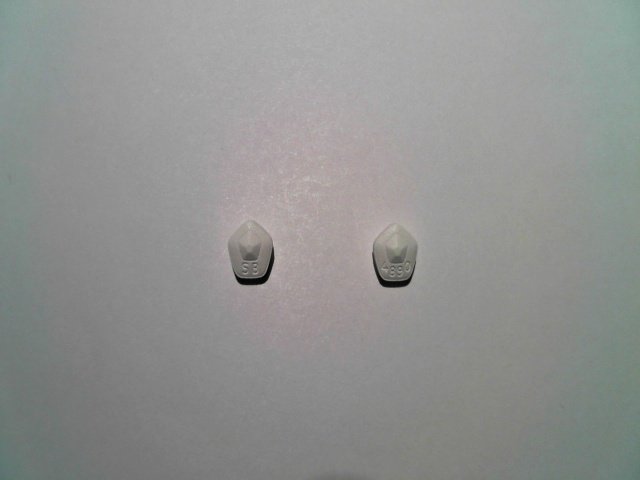0: (404, 260, 413, 272)
4: (380, 259, 389, 275)
8: (389, 264, 396, 278)
9: (396, 265, 403, 279)
B: (250, 261, 261, 277)
S: (239, 260, 249, 276)
